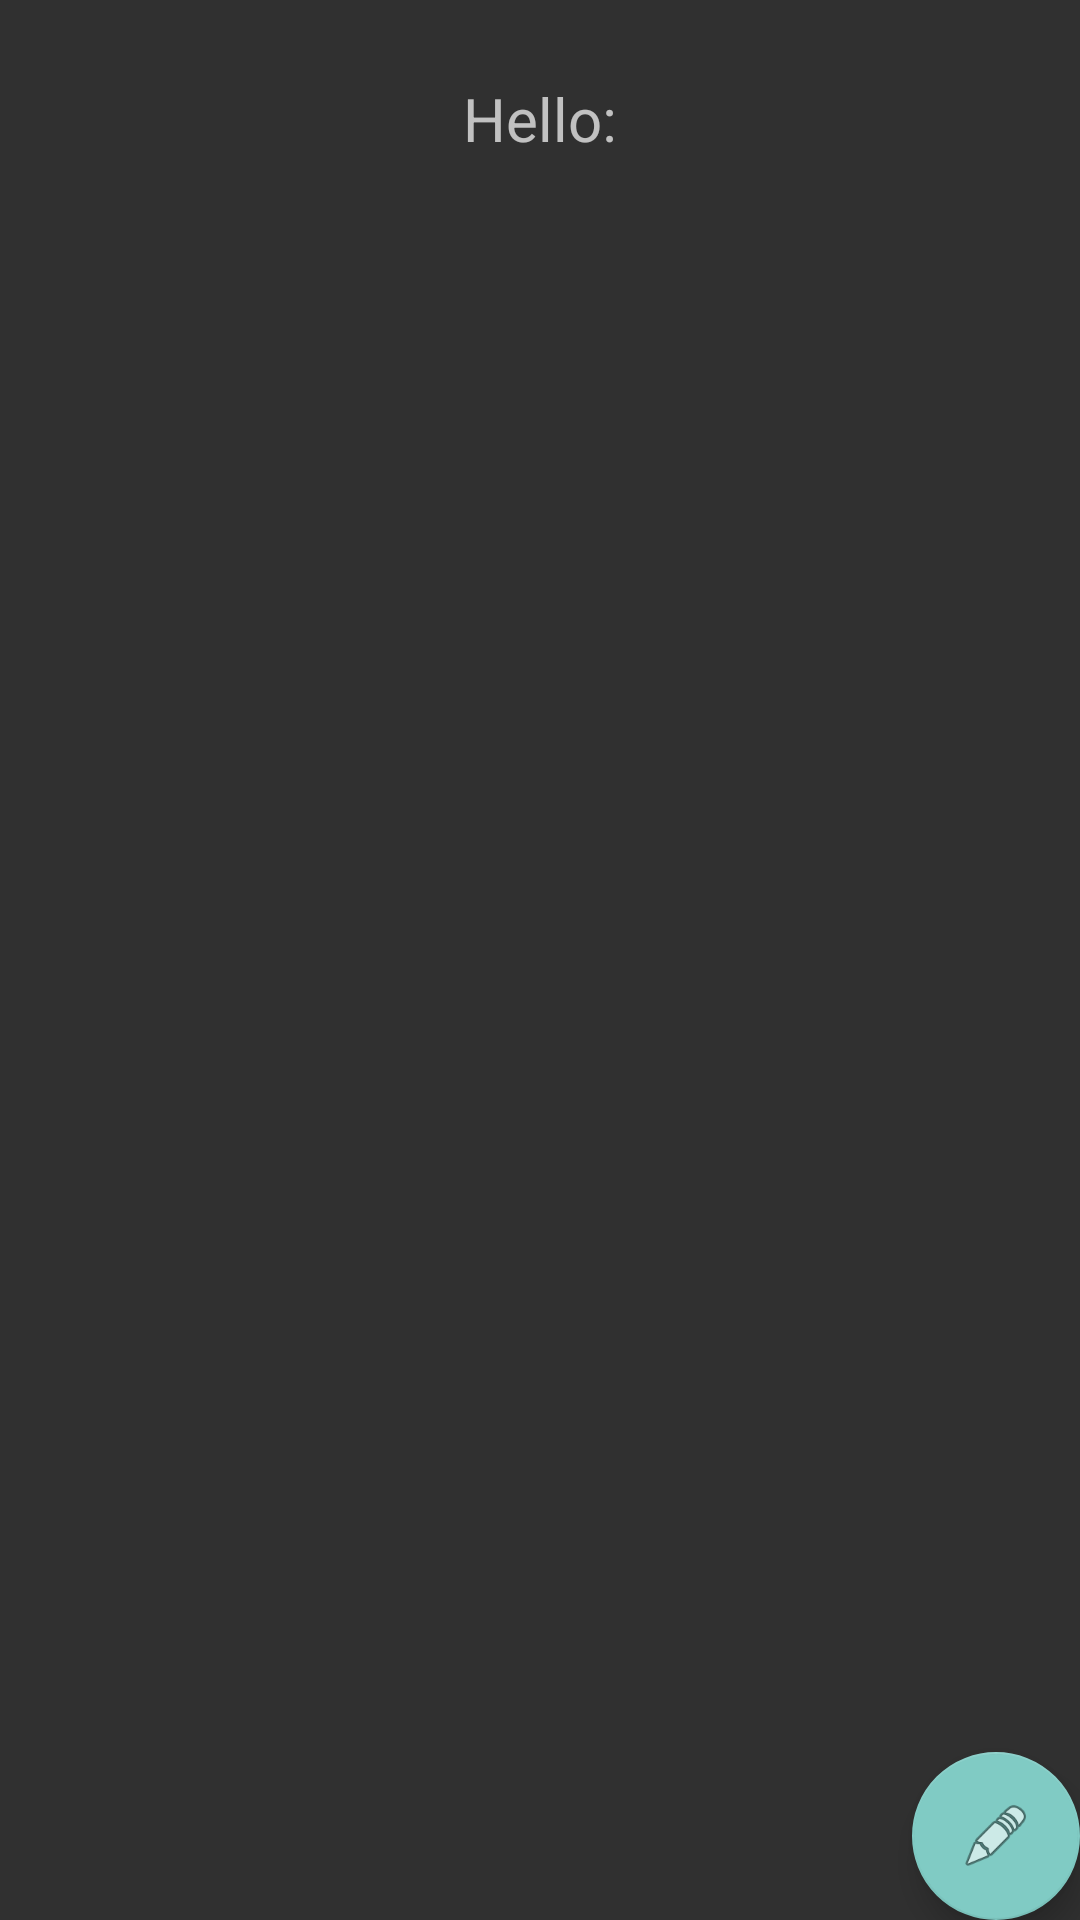

Icon click points for this 1080w x 1920h phone screenshot, format (x,y):
edit: (996,1836)
